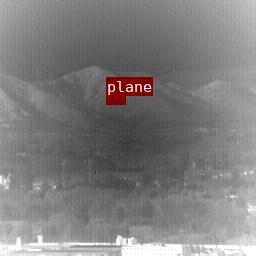plane: (106, 96, 125, 104)
